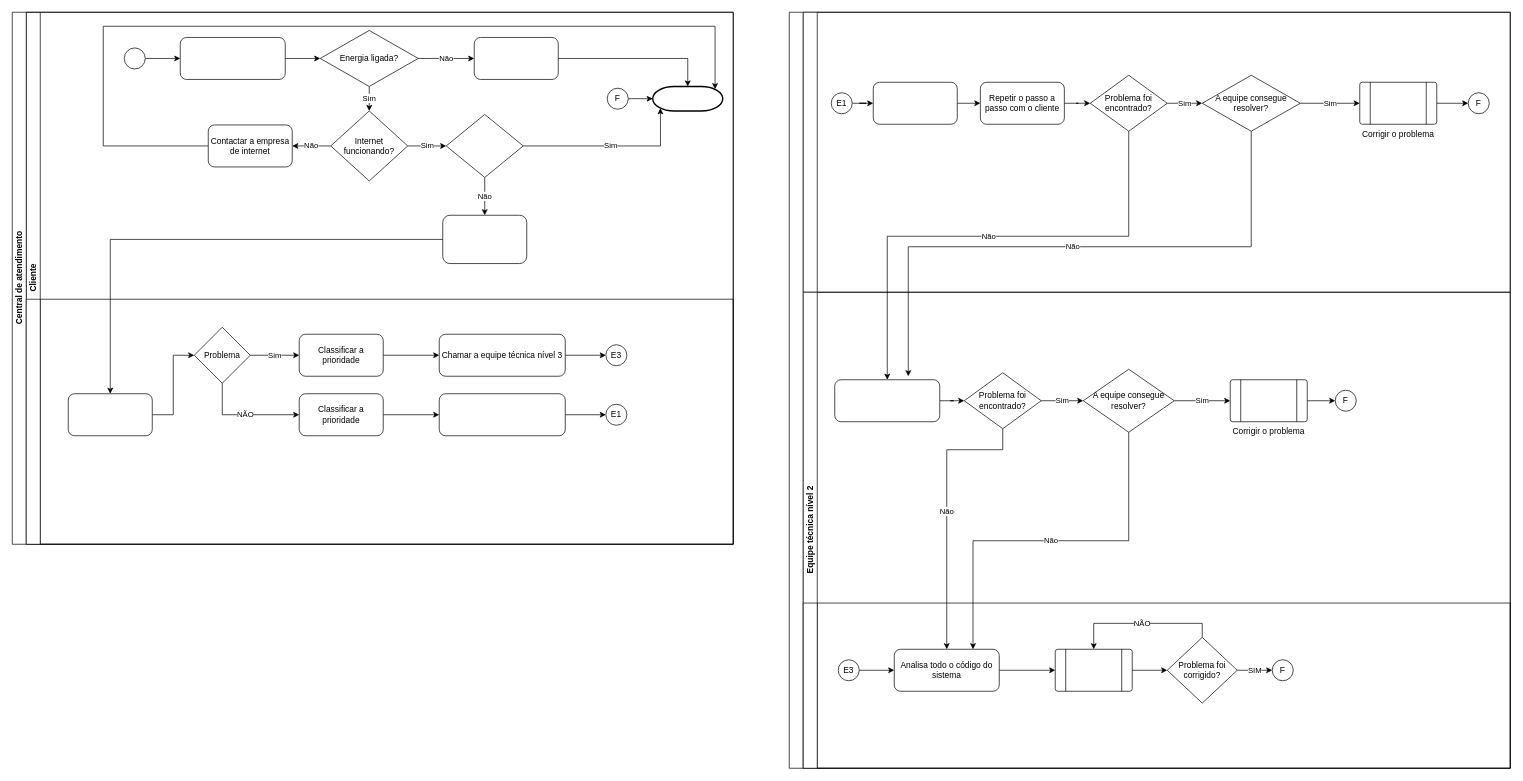
This 1523x781 diagram has some shape labels left out. Each missing label, with the box of its shape:
Abrir um chamado: (442, 215, 527, 264)
Central de suporte de TI: (789, 12, 1510, 768)
Central de TI: (26, 299, 733, 544)
Chamar a equipe técnica nível 1: (439, 393, 565, 436)
Classificar o grupo do chamado: (68, 393, 152, 436)
Encontrar e corrigir o problema: (1055, 649, 1132, 691)
Equipe técnica nível 1: (803, 12, 1510, 292)
Equipe técnica nível 3: (803, 602, 1510, 768)
Fazer uma investigação completa no sistema: (834, 379, 940, 422)
Investigar o problema: (873, 82, 957, 124)
Ligar a energia: (474, 37, 558, 79)
Sistema não está funcionando corretamente: (180, 37, 285, 79)
Sistema voltou a funcionar?: (446, 114, 523, 177)
